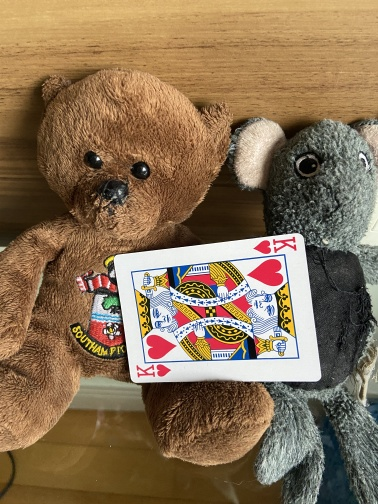king: (112, 231, 323, 385)
